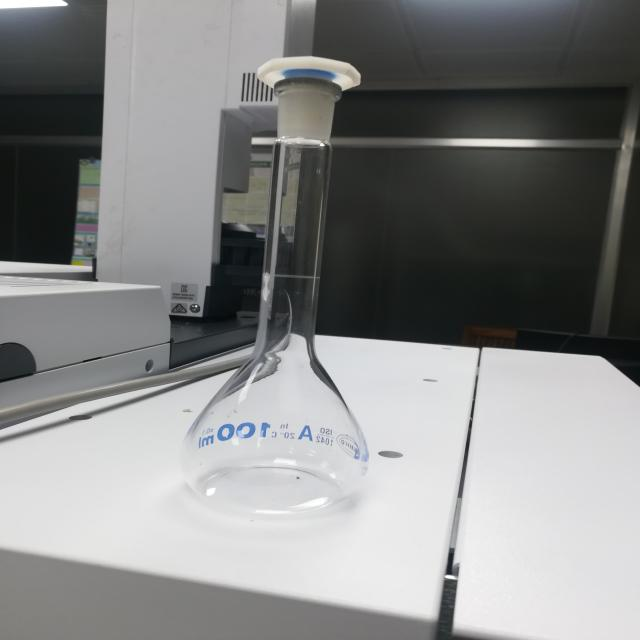Volumetric_Flask: (156, 21, 422, 536)
